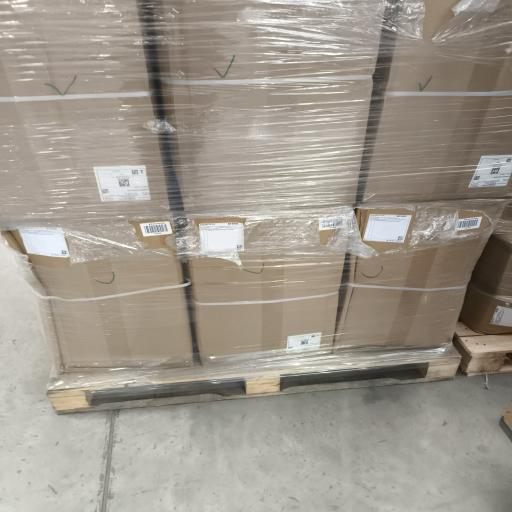pallet: (48, 347, 460, 413), (454, 322, 511, 375), (501, 403, 511, 440)
